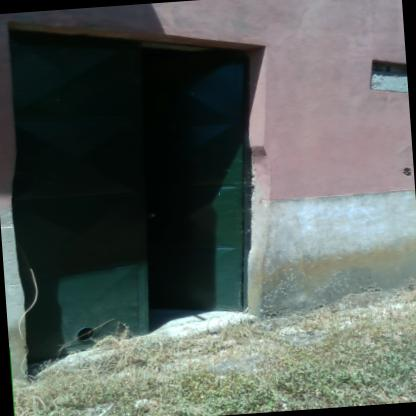closed: (0, 13, 288, 361)
